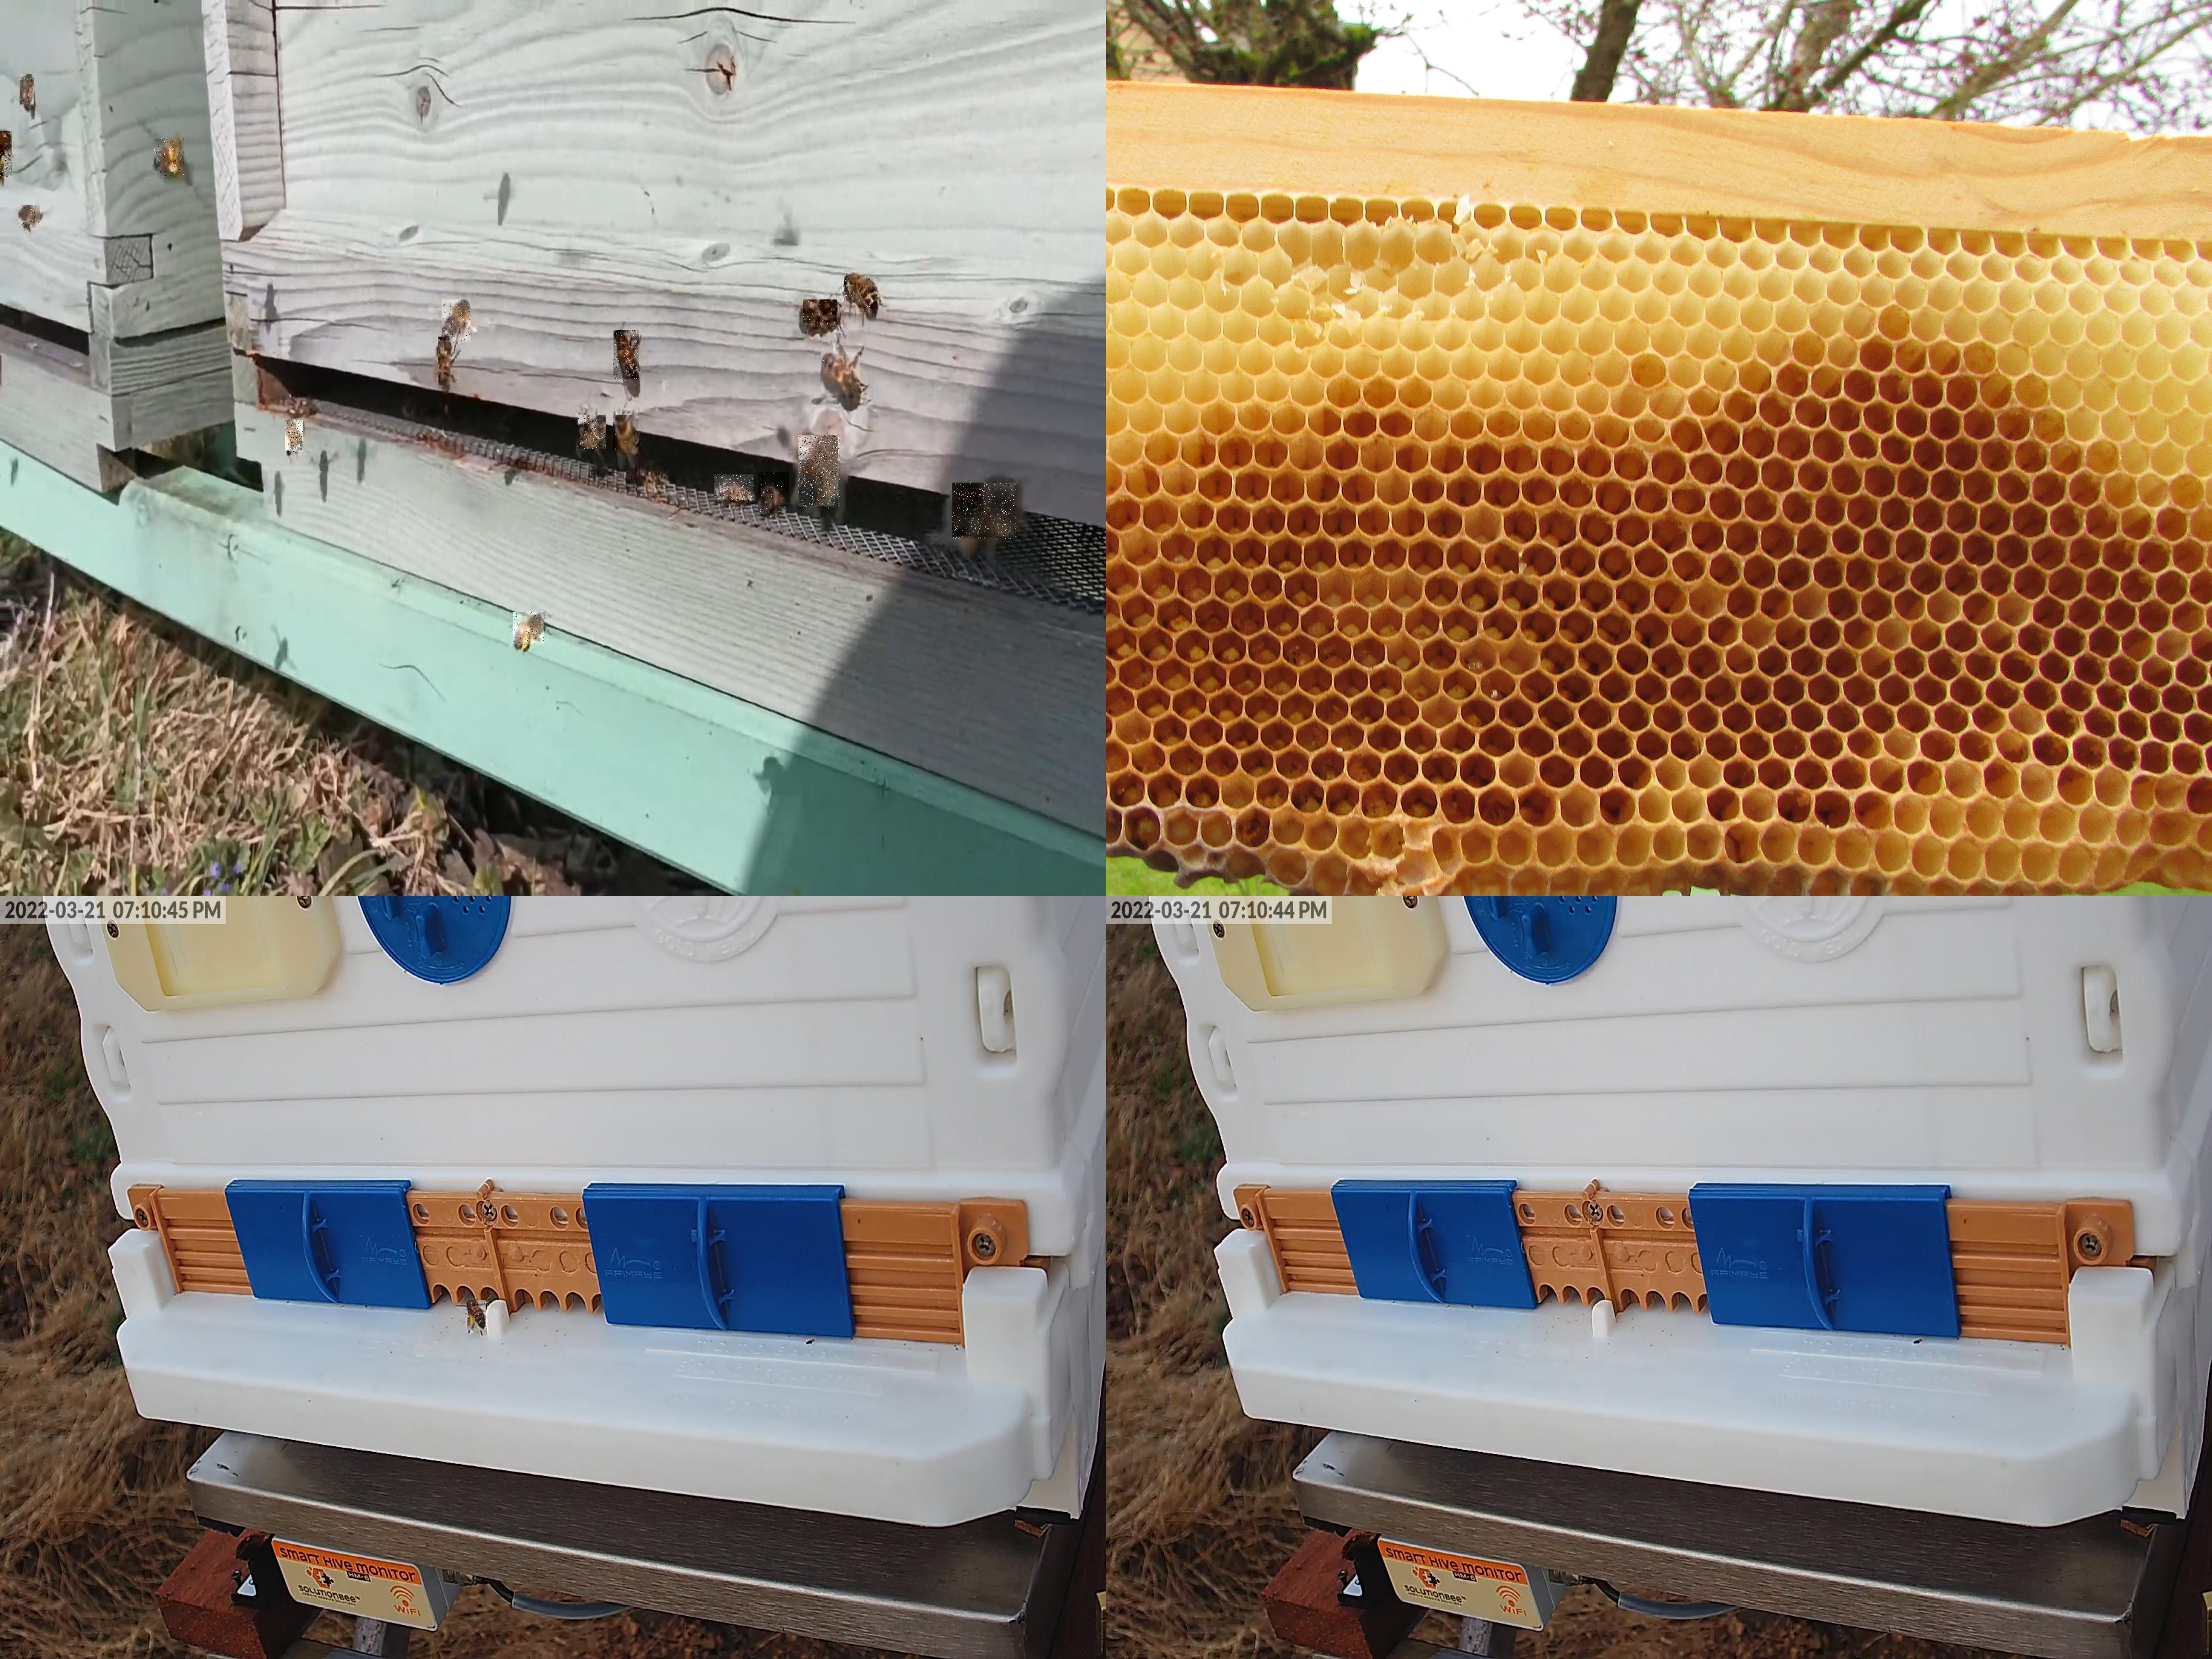bee: (953, 483, 1017, 540), (799, 436, 841, 511), (822, 354, 860, 397), (758, 472, 791, 512), (613, 331, 639, 382), (442, 300, 472, 343), (845, 277, 878, 312), (714, 474, 754, 502), (578, 415, 606, 450), (803, 300, 838, 326), (613, 415, 636, 453), (437, 338, 451, 389), (286, 420, 303, 455), (0, 132, 12, 179), (19, 75, 35, 108), (19, 206, 40, 227)
pollenbee: (153, 139, 185, 178), (512, 613, 545, 647), (467, 1300, 488, 1333)
